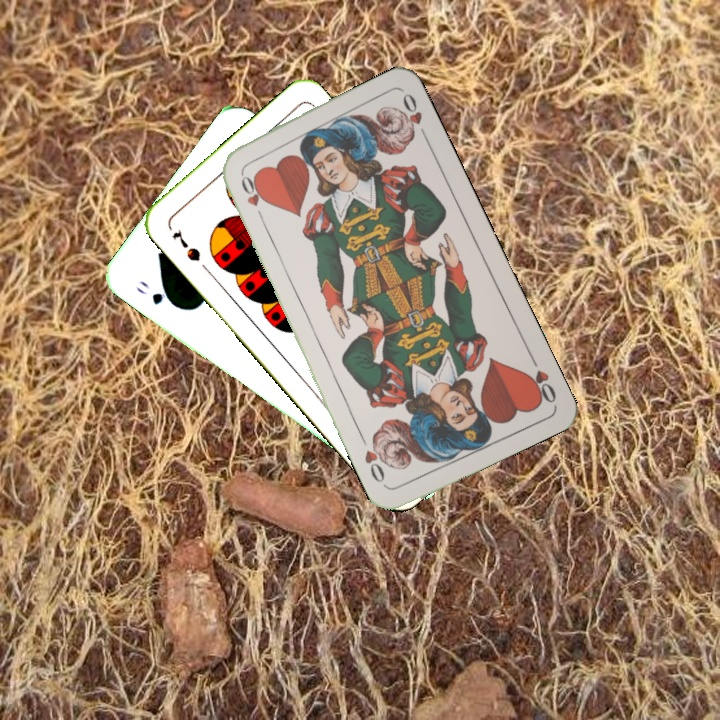GO: (132, 276, 180, 310)
HO: (523, 351, 559, 406), (236, 168, 267, 225)
S7: (169, 226, 203, 264)
